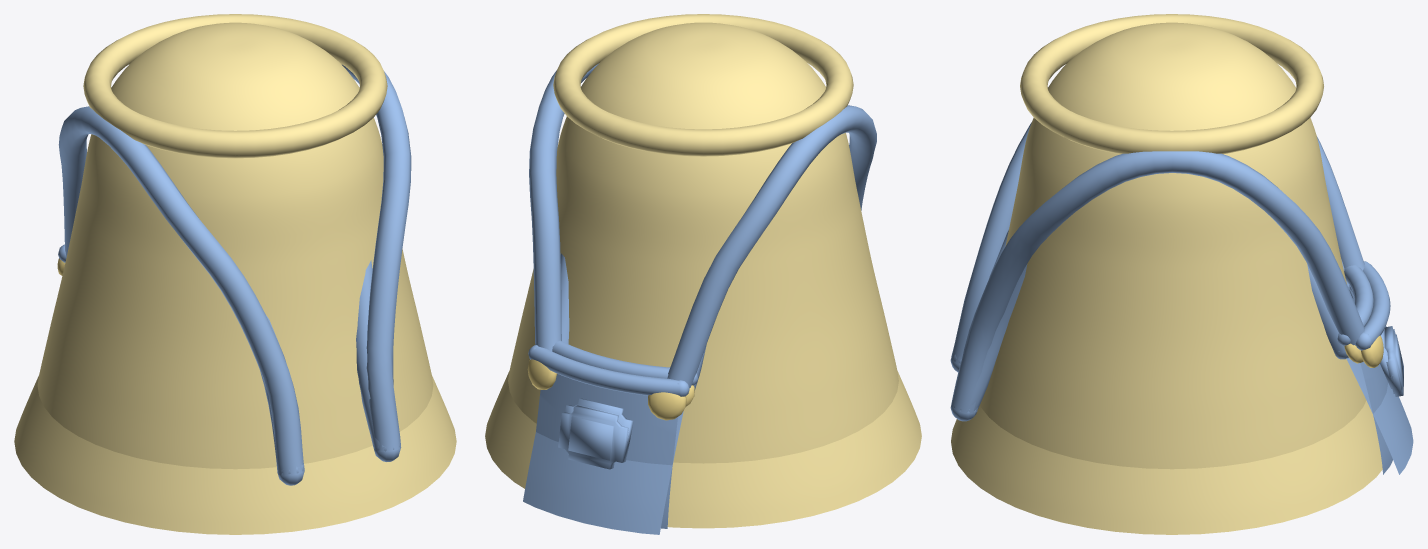
Rendered from overalls_top.glb.
The picture shows the model from 3 angles, left to right: view 1: azimuth 30°, elevation 25°; view 2: azimuth 150°, elevation 25°; view 3: azimuth 270°, elevation 25°; orthographic projection.
Parts seen in each view (by area): view 1: BodyBoy, BodyGirl; view 2: BodyBoy, BodyGirl; view 3: BodyBoy, BodyGirl.
Part boxes in pixels (box(x1,y1,x2,y2)): BodyBoy: box(37, 14, 433, 485); BodyGirl: box(14, 260, 456, 534); BodyBoy: box(508, 14, 898, 528); BodyGirl: box(485, 253, 921, 534); BodyBoy: box(950, 14, 1403, 474); BodyGirl: box(951, 230, 1413, 534).
Bounding box in the file's own units: 0.4149 × 0.4132 × 0.4342.
